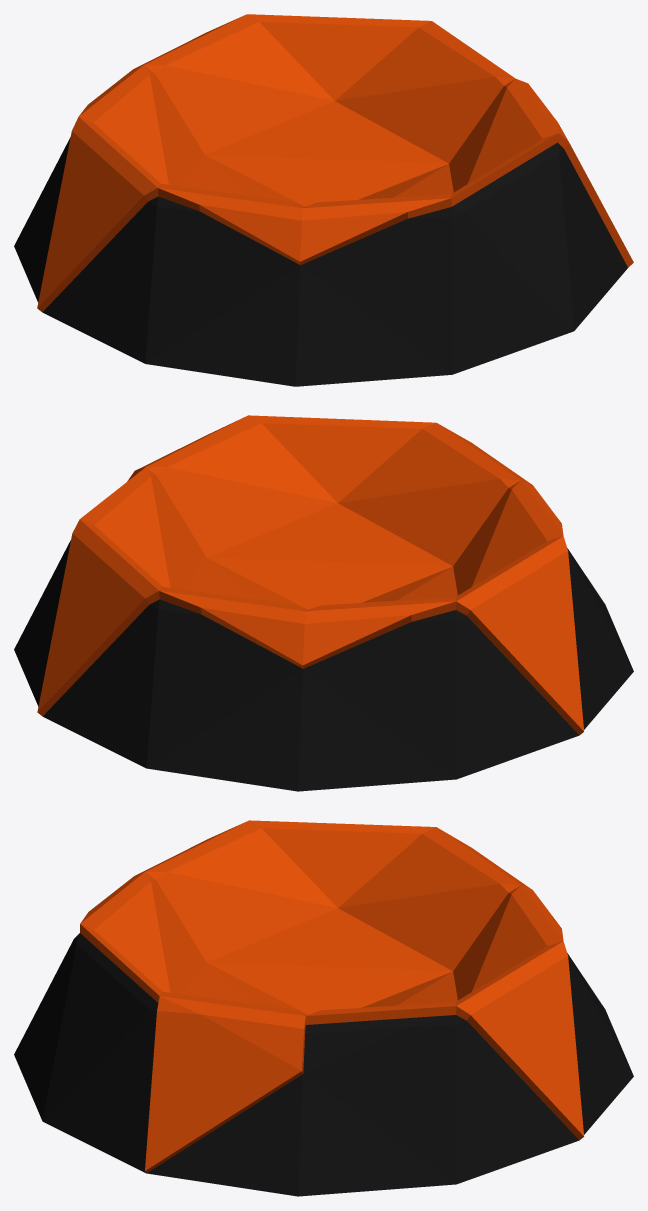
Rendered from fire_geiser.FBX.
3 views of the same model, one above another, from view 1: azimuth 30°, elevation 25°; view 2: azimuth 150°, elevation 25°; view 3: azimuth 270°, elevation 25° (orthographic).
Parts seen in each view (by area): view 1: FIRE_GEISER; view 2: FIRE_GEISER; view 3: FIRE_GEISER.
Part boxes in pixels (x1,y1,x2,y2): FIRE_GEISER: (14, 14, 633, 386); FIRE_GEISER: (14, 415, 633, 791); FIRE_GEISER: (14, 820, 633, 1196).
Bounding box in the file's own units: 3.11 × 0.8043 × 3.08.
